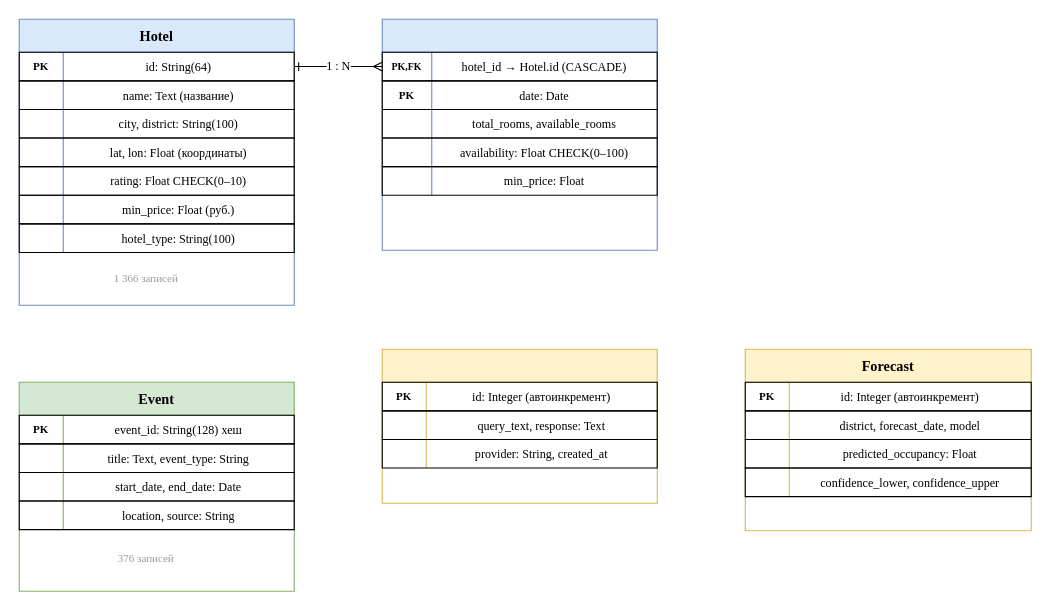
Some shapes in this 1051 by 611 pixel diagram are drawn without their labels. Here are the shapes that lost their labels. From the top down, the box of each, then its label:
(381, 18, 657, 250): HotelStatistic
(381, 348, 657, 503): QueryHistory
